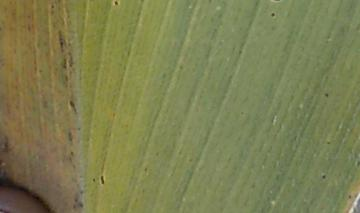tarspot: (1, 134, 11, 153), (66, 50, 75, 69), (68, 99, 78, 113), (61, 56, 68, 70), (66, 130, 73, 143), (63, 72, 70, 82), (99, 174, 105, 185), (26, 21, 31, 33), (269, 11, 276, 19), (58, 40, 65, 48), (48, 3, 55, 10), (72, 197, 79, 204), (37, 67, 44, 74), (25, 13, 32, 20), (237, 49, 243, 57), (323, 92, 329, 99), (321, 173, 327, 180), (178, 64, 184, 71), (142, 166, 148, 173), (78, 201, 84, 208), (347, 193, 352, 201), (356, 159, 360, 169), (71, 203, 76, 211), (113, 1, 119, 7), (69, 150, 75, 156), (75, 126, 81, 132), (78, 189, 84, 195), (325, 139, 330, 146), (91, 177, 96, 183), (239, 110, 244, 116), (207, 1, 213, 5), (271, 1, 281, 3)
